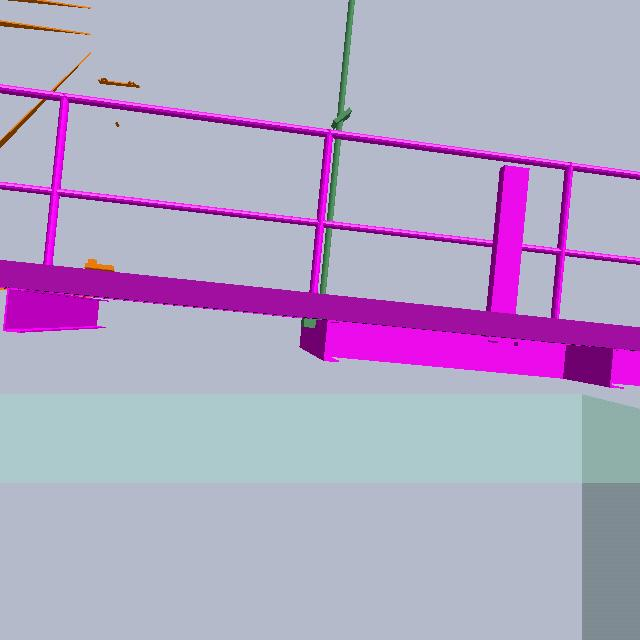Poste: (293, 1, 371, 345)
